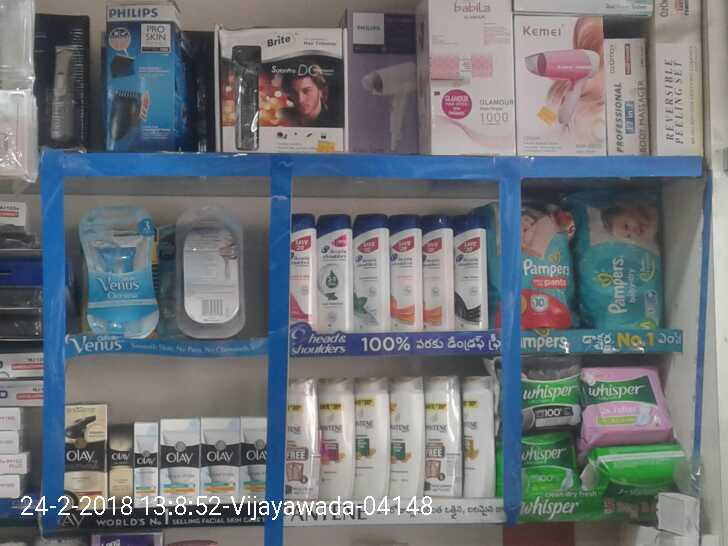venus: (80, 211, 158, 333), (178, 202, 243, 334)
